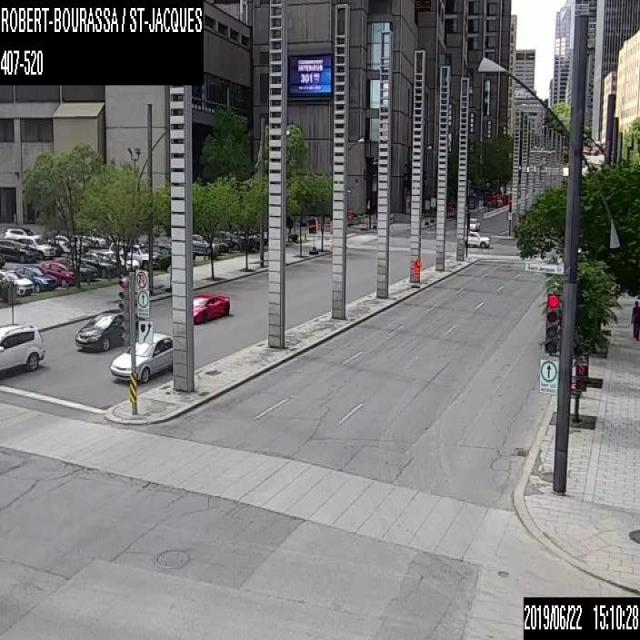construction: (412, 257, 420, 287)
pedestrian: (630, 300, 639, 340)
vehicle: (74, 310, 142, 350), (0, 320, 45, 376), (134, 329, 174, 383), (109, 240, 159, 269), (193, 293, 230, 324), (13, 265, 57, 290), (80, 250, 116, 276), (58, 257, 97, 280), (0, 268, 33, 295), (40, 261, 74, 286), (0, 238, 35, 261), (109, 346, 131, 382), (15, 236, 55, 255), (103, 250, 139, 270), (191, 232, 218, 255), (54, 234, 78, 252), (4, 227, 39, 239), (466, 231, 490, 247), (70, 234, 88, 252), (45, 238, 63, 255), (466, 216, 481, 230)
